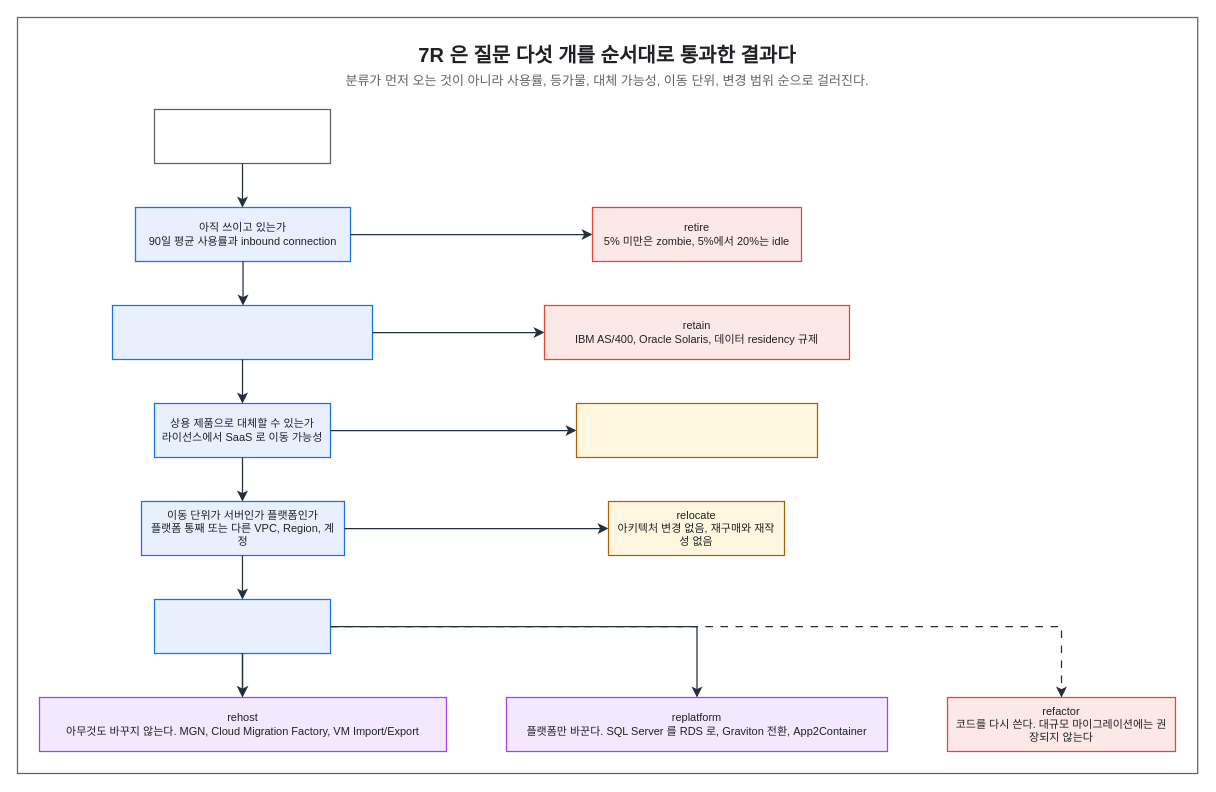
Image size: 1216x792. Some labels were removed from this diagram. The box of each missing label's shape, as (x1, y1, x2, y2) in pixels:
repurchase 구매 뒤에 교육, 데이터 이전, AD 통합, 네트워킹이 남는다: (575, 402, 818, 458)
옮기면서 무엇을 바꾸는가 OS 와 애플리케이션 코드의 변경 범위: (153, 598, 331, 654)
클라우드 등가물이 있는가 mainframe, mid-range, non-x86 Unix 여부: (111, 304, 373, 360)
포트폴리오 평가 완료 사용률, 의존성, 라이선스, 소유자 수집: (153, 108, 331, 164)
